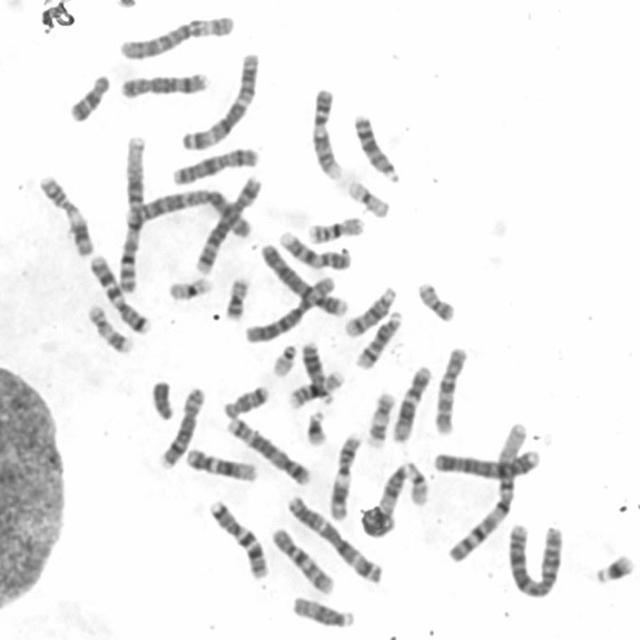A1: (444, 416, 529, 566), (114, 132, 149, 295)
A2: (126, 187, 254, 239), (503, 516, 567, 600)
A3: (283, 492, 386, 586), (178, 48, 261, 151)
B4: (256, 237, 349, 319), (430, 446, 543, 481)
B5: (193, 171, 264, 276), (222, 412, 312, 487)
C10: (267, 523, 337, 596), (430, 340, 471, 438)
C11: (36, 172, 96, 258), (326, 429, 363, 522)
C12: (389, 362, 434, 444), (182, 444, 260, 483)
C6: (240, 272, 336, 344), (116, 12, 237, 62)
C7: (205, 496, 272, 582), (86, 250, 152, 334)
C8: (156, 382, 206, 471), (117, 68, 210, 100)
C9: (274, 226, 353, 272), (309, 83, 344, 182)
D13: (351, 108, 402, 186), (300, 340, 335, 406)
D14: (350, 306, 404, 370), (342, 281, 399, 339)
D15: (288, 592, 356, 630), (376, 463, 408, 520)
E16: (283, 366, 346, 410), (303, 210, 368, 244)
E17: (84, 300, 134, 355), (362, 388, 397, 450)
E18: (66, 70, 112, 124), (220, 381, 270, 420)
F19: (344, 176, 392, 220), (164, 273, 214, 302)
F20: (414, 278, 457, 324), (222, 272, 252, 321)
G21: (590, 548, 636, 587), (302, 406, 329, 448)
G22: (403, 458, 429, 508), (268, 339, 298, 378)
X: (168, 144, 261, 186)
Y: (147, 376, 176, 421)
